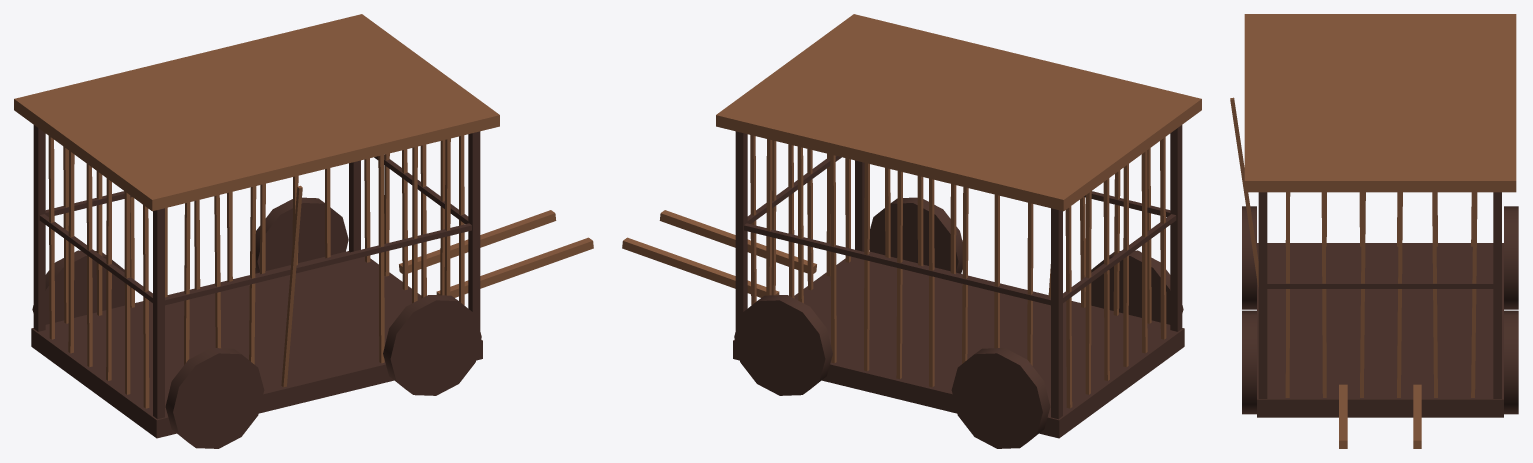
Rendered from cage_cart_broken.glb.
3 renders of one model, left to right at view 1: azimuth 30°, elevation 25°; view 2: azimuth 150°, elevation 25°; view 3: azimuth 270°, elevation 25°, orthographic.
Parts seen in each view (by area): view 1: bed; view 2: bed; view 3: bed.
Part boxes in pixels (<box>): bed: <box>14,14,593,448</box>; bed: <box>622,14,1201,448</box>; bed: <box>1230,14,1518,448</box>.
Size of the model in its own units: 4.5 by 2.32 by 2.34.
